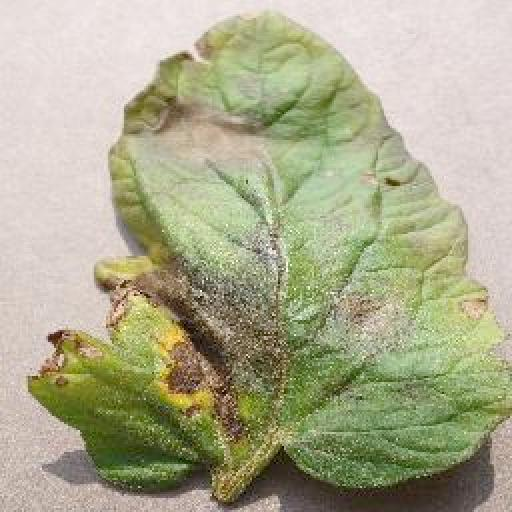disease_tomato: (26, 10, 512, 488)
